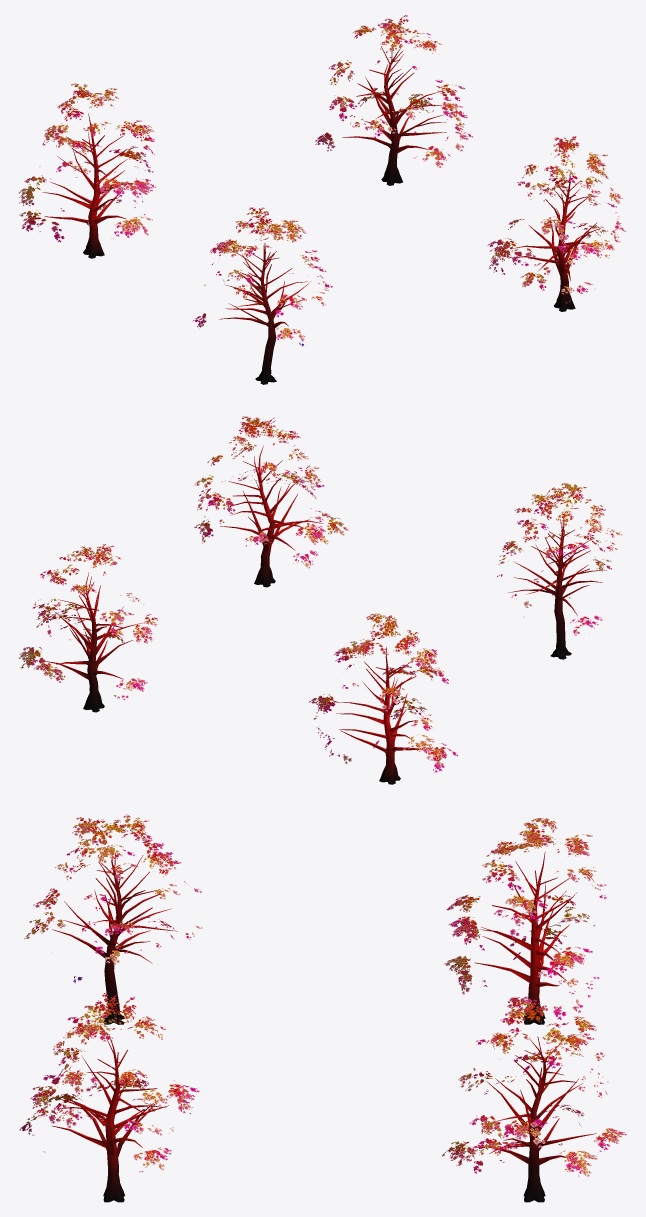
Rendered from Trees1.glb.
3 renders of one model, top to bottom at view 1: azimuth 30°, elevation 25°; view 2: azimuth 150°, elevation 25°; view 3: azimuth 270°, elevation 25°, orthographic. The views are drawn at different scales.
Visible parts, largest first — view 1: Cherry3; view 2: Cherry3; view 3: Cherry3.
Boxes of the visible parts, box(x1,y1,x2,y2) form: Cherry3: box(18, 15, 626, 384); Cherry3: box(18, 416, 622, 784); Cherry3: box(19, 814, 626, 1202).
Bounding box in the file's own units: 26.6 × 9.55 × 26.47.
2 materials, 1 textured.
